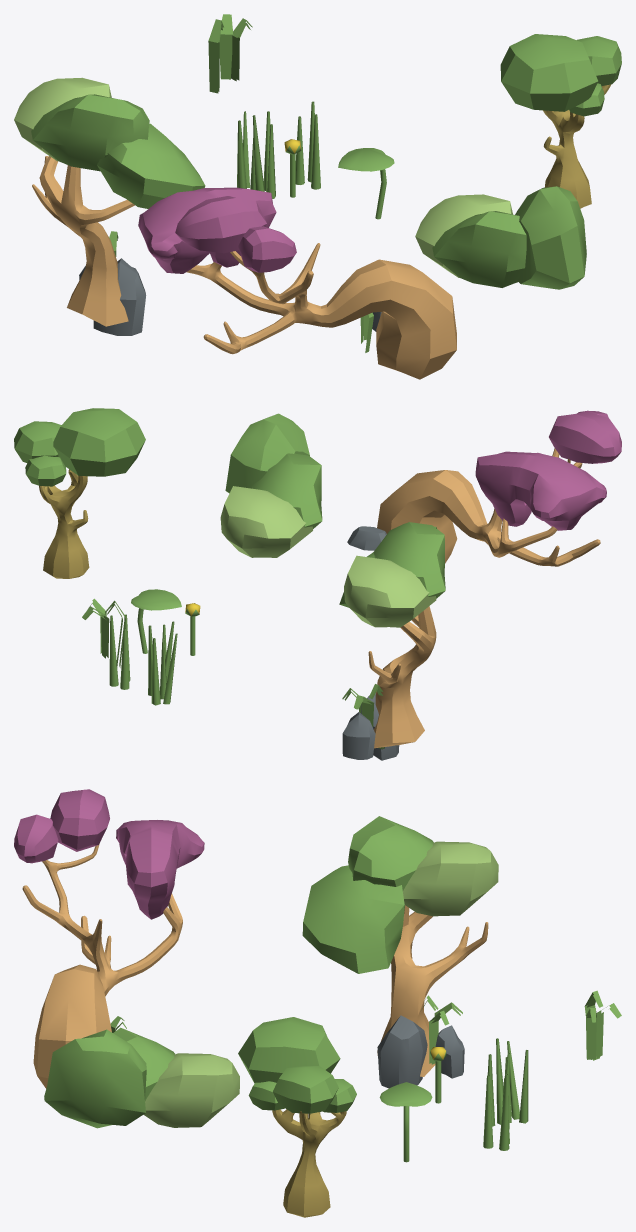
Rendered from VegSmall.fbx.
3 renders of one model, top to bottom at view 1: azimuth 30°, elevation 25°; view 2: azimuth 150°, elevation 25°; view 3: azimuth 270°, elevation 25°, orthographic. The views are drawn at different scales.
Visible parts, largest first — view 1: tree cherry, tree, Bush, tree.006, GrassHigh, grass, WaterLilly, GrassHigh.001; view 2: tree cherry, tree, Bush, tree.006, GrassHigh, WaterLilly, GrassHigh.001, grass; view 3: tree, tree cherry, Bush, tree.006, GrassHigh, WaterLilly, grass, GrassHigh.001.
Boxes of the visible parts, bbox=[...] form: tree cherry: bbox=[138, 187, 456, 379]; tree: bbox=[14, 77, 205, 335]; Bush: bbox=[415, 186, 586, 289]; tree.006: bbox=[500, 34, 621, 208]; GrassHigh: bbox=[237, 111, 275, 198]; grass: bbox=[208, 14, 252, 93]; WaterLilly: bbox=[338, 148, 394, 219]; GrassHigh.001: bbox=[295, 101, 320, 189]; tree cherry: bbox=[347, 410, 621, 566]; tree: bbox=[339, 522, 445, 760]; Bush: bbox=[220, 413, 322, 557]; tree.006: bbox=[14, 408, 145, 578]; GrassHigh: bbox=[148, 621, 177, 705]; WaterLilly: bbox=[131, 589, 181, 653]; GrassHigh.001: bbox=[109, 614, 130, 689]; grass: bbox=[82, 598, 125, 667]; tree: bbox=[302, 816, 498, 1088]; tree cherry: bbox=[14, 789, 204, 1088]; Bush: bbox=[44, 1027, 239, 1128]; tree.006: bbox=[238, 1017, 356, 1217]; GrassHigh: bbox=[487, 1038, 528, 1128]; WaterLilly: bbox=[379, 1082, 432, 1162]; grass: bbox=[584, 990, 621, 1060]; GrassHigh.001: bbox=[483, 1074, 509, 1150].
Bounding box in the file's own units: 800 × 361 × 766.
